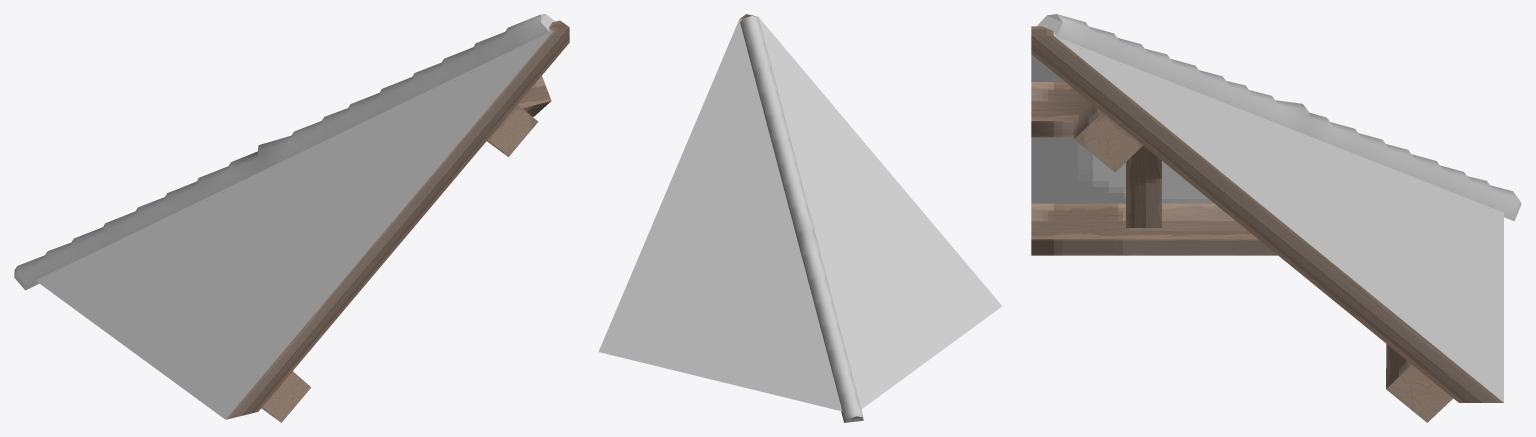
The model's file is SM_HouseRoof_Angle_01.fbx.
3 views of the same model, side by side, from view 1: azimuth 30°, elevation 25°; view 2: azimuth 150°, elevation 25°; view 3: azimuth 270°, elevation 25° (orthographic). The views are drawn at different scales.
Visible parts, largest first — view 1: SM_HouseRoof_Angle_01_LOD0; view 2: SM_HouseRoof_Angle_01_LOD0; view 3: SM_HouseRoof_Angle_01_LOD0.
Part boxes in pixels (x1,y1,x2,y2): SM_HouseRoof_Angle_01_LOD0: (14, 14, 569, 422); SM_HouseRoof_Angle_01_LOD0: (598, 14, 1002, 422); SM_HouseRoof_Angle_01_LOD0: (1031, 14, 1521, 422).
Size of what is drawn, in the model's own units: 5.43 by 4.88 by 5.45.
